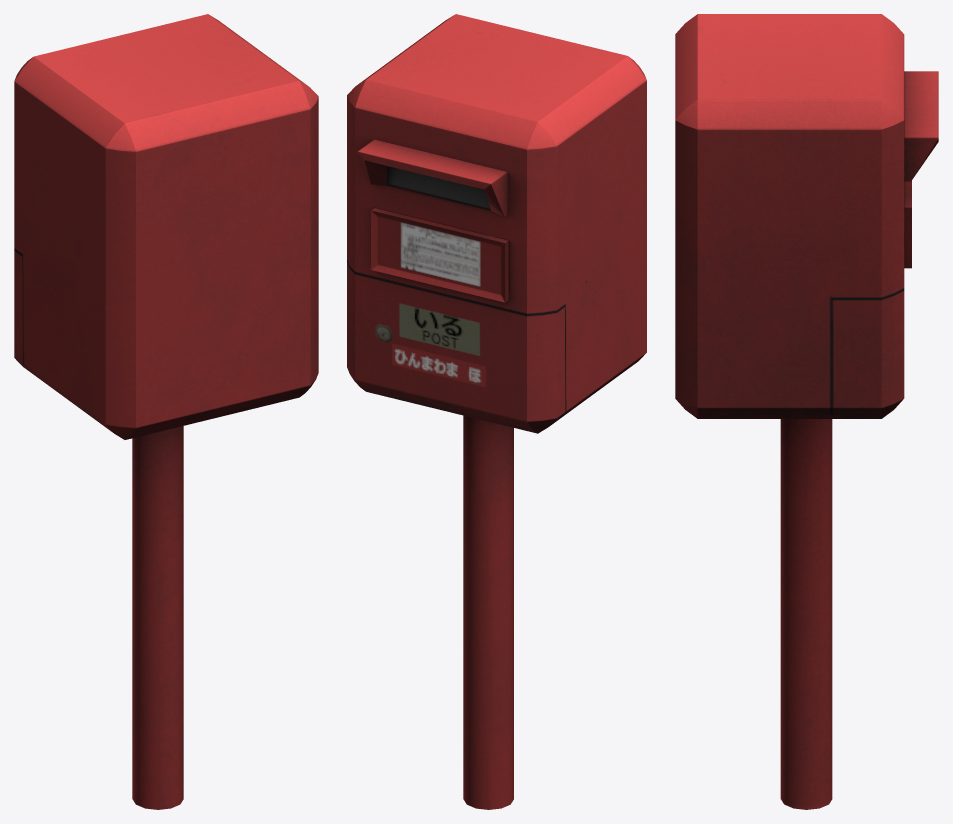
File: NNJ0310002.fbx
3 views of the same model, side by side, from view 1: azimuth 30°, elevation 25°; view 2: azimuth 150°, elevation 25°; view 3: azimuth 270°, elevation 25° (orthographic). The views are drawn at different scales.
Visible parts, largest first — view 1: smNNJ0310002; view 2: smNNJ0310002; view 3: smNNJ0310002.
Part boxes in pixels (<box>): smNNJ0310002: <box>14,14,318,809</box>; smNNJ0310002: <box>347,14,646,809</box>; smNNJ0310002: <box>675,14,938,809</box>.
Bounding box in the file's own units: 59.35 × 196 × 63.07.
1 material, 1 textured.
